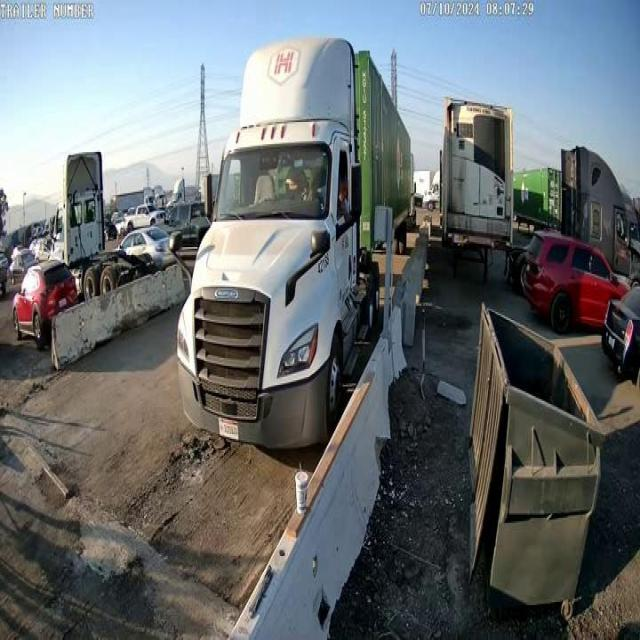TRUCK_OUT: (175, 35, 415, 451)
